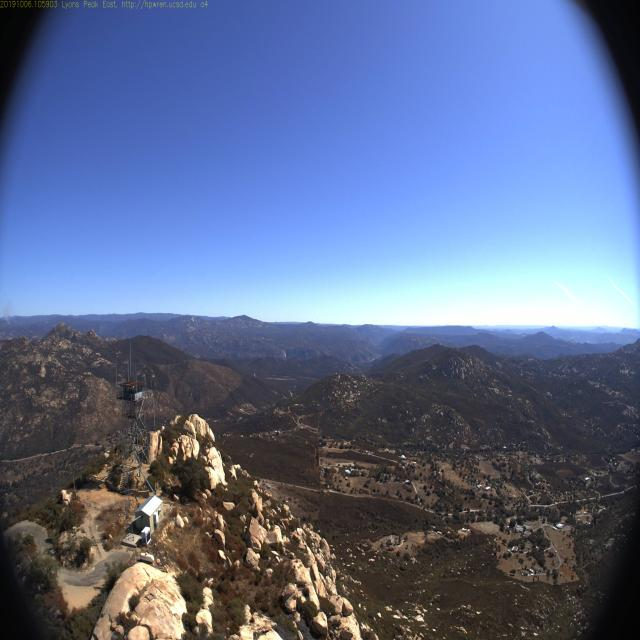smoke: (0, 297, 13, 322)
